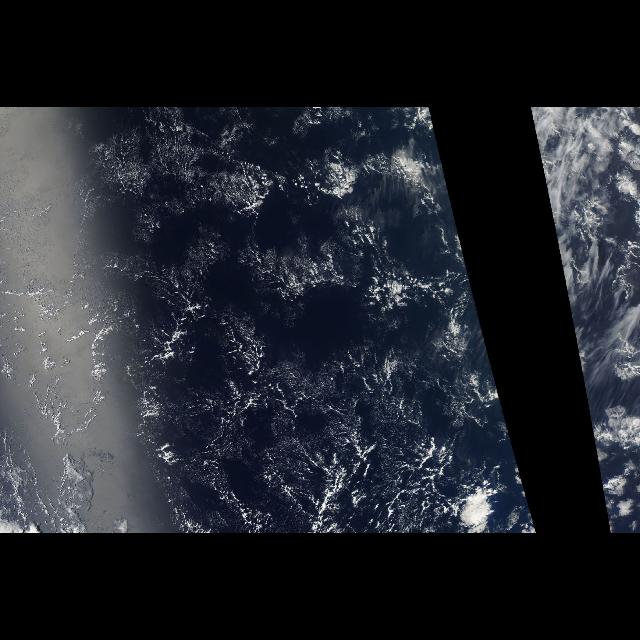Flower: (160, 125, 472, 378)
Sugar: (118, 120, 235, 216), (268, 320, 362, 430), (108, 230, 228, 290), (188, 434, 306, 484)
